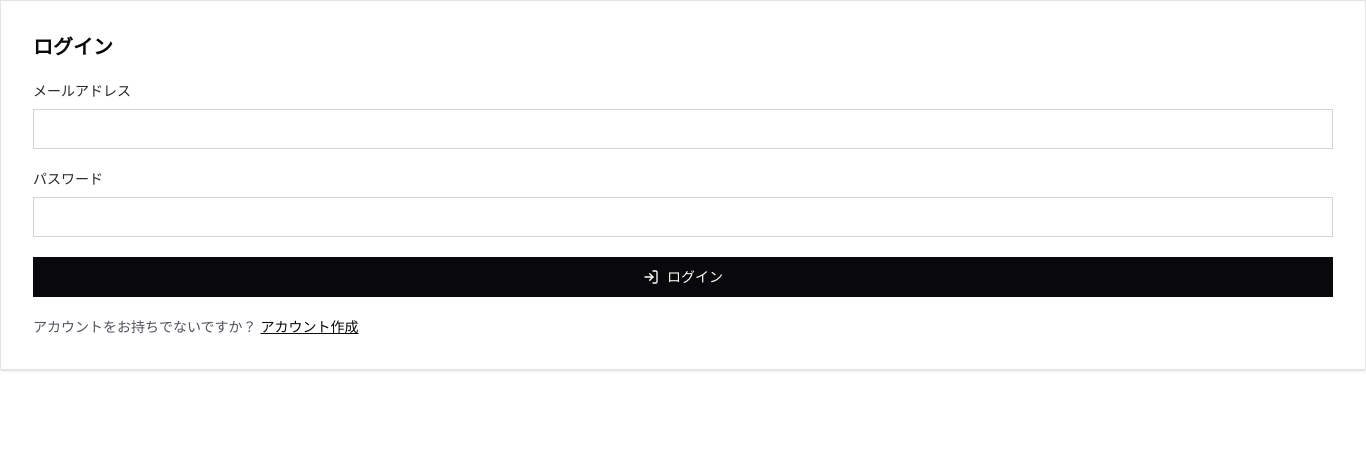
Test: LoginForm › Server Action のエラーメッセージを表示する
Type "user@example.com" into the field labelled "メールアドレス". click: {"x": 683, "y": 129}
box: left=33, top=109, right=1333, bottom=149
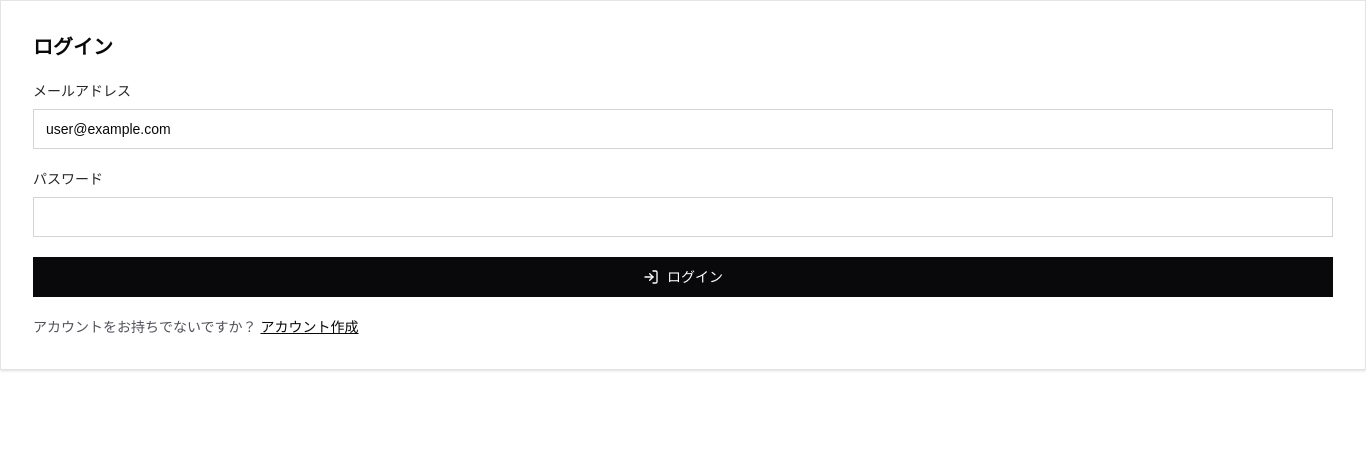
Type "password123" into the password field labelled "パスワード". click: {"x": 683, "y": 217}
box: left=33, top=197, right=1333, bottom=237
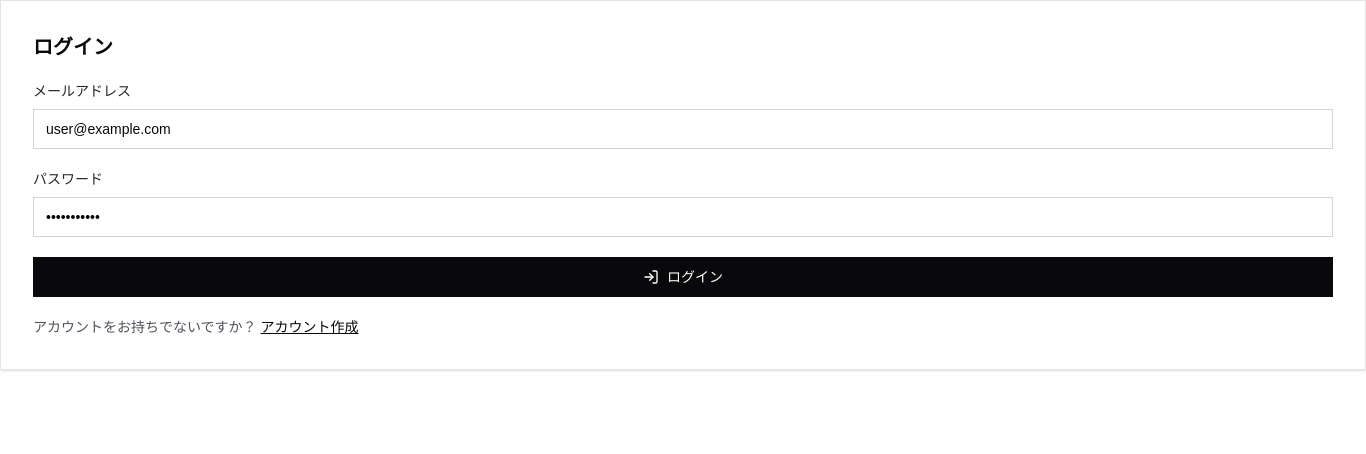
Click the button "ログイン". click: {"x": 683, "y": 277}
box: left=33, top=257, right=1333, bottom=297
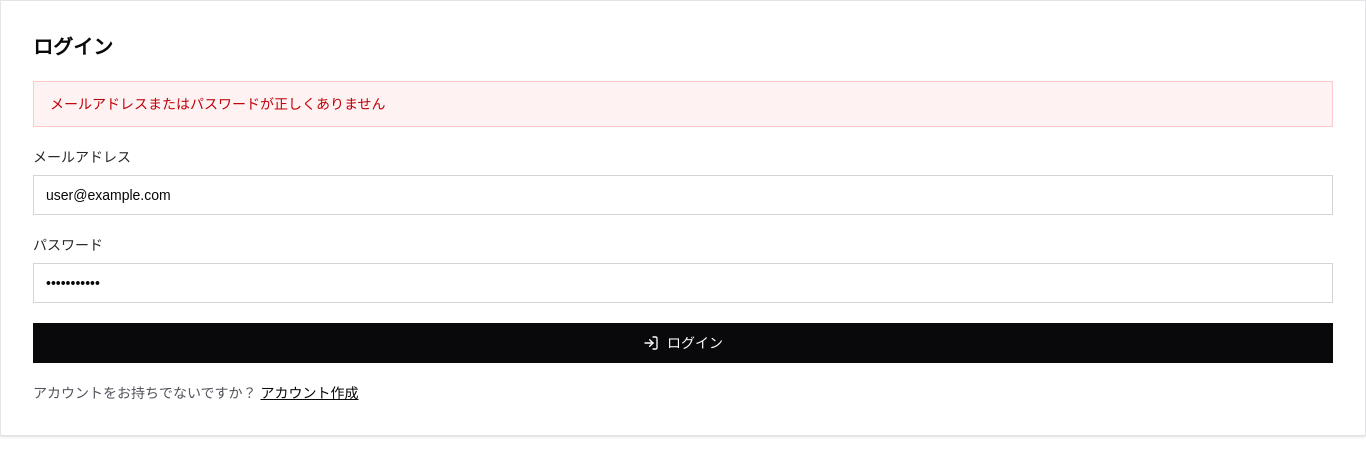
Expected: the text "メールアドレスまたはパスワードが正しくありません" is shown, left=33, top=81, right=1333, bottom=127
